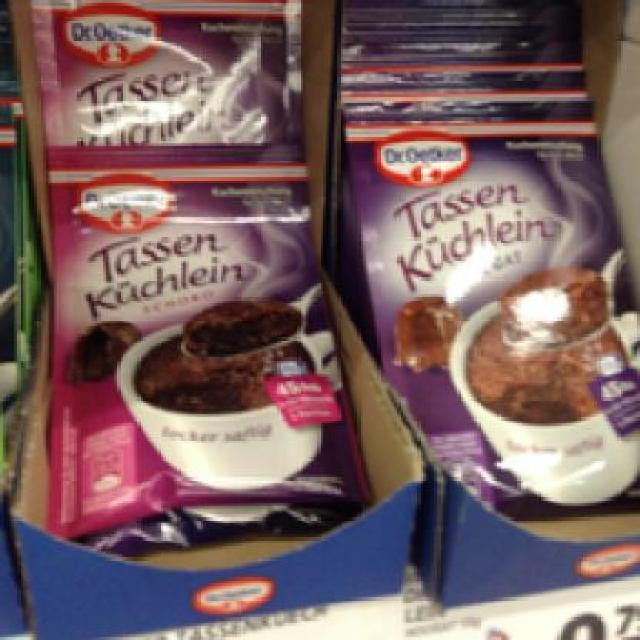Cake: (34, 140, 363, 534), (340, 111, 637, 534)
